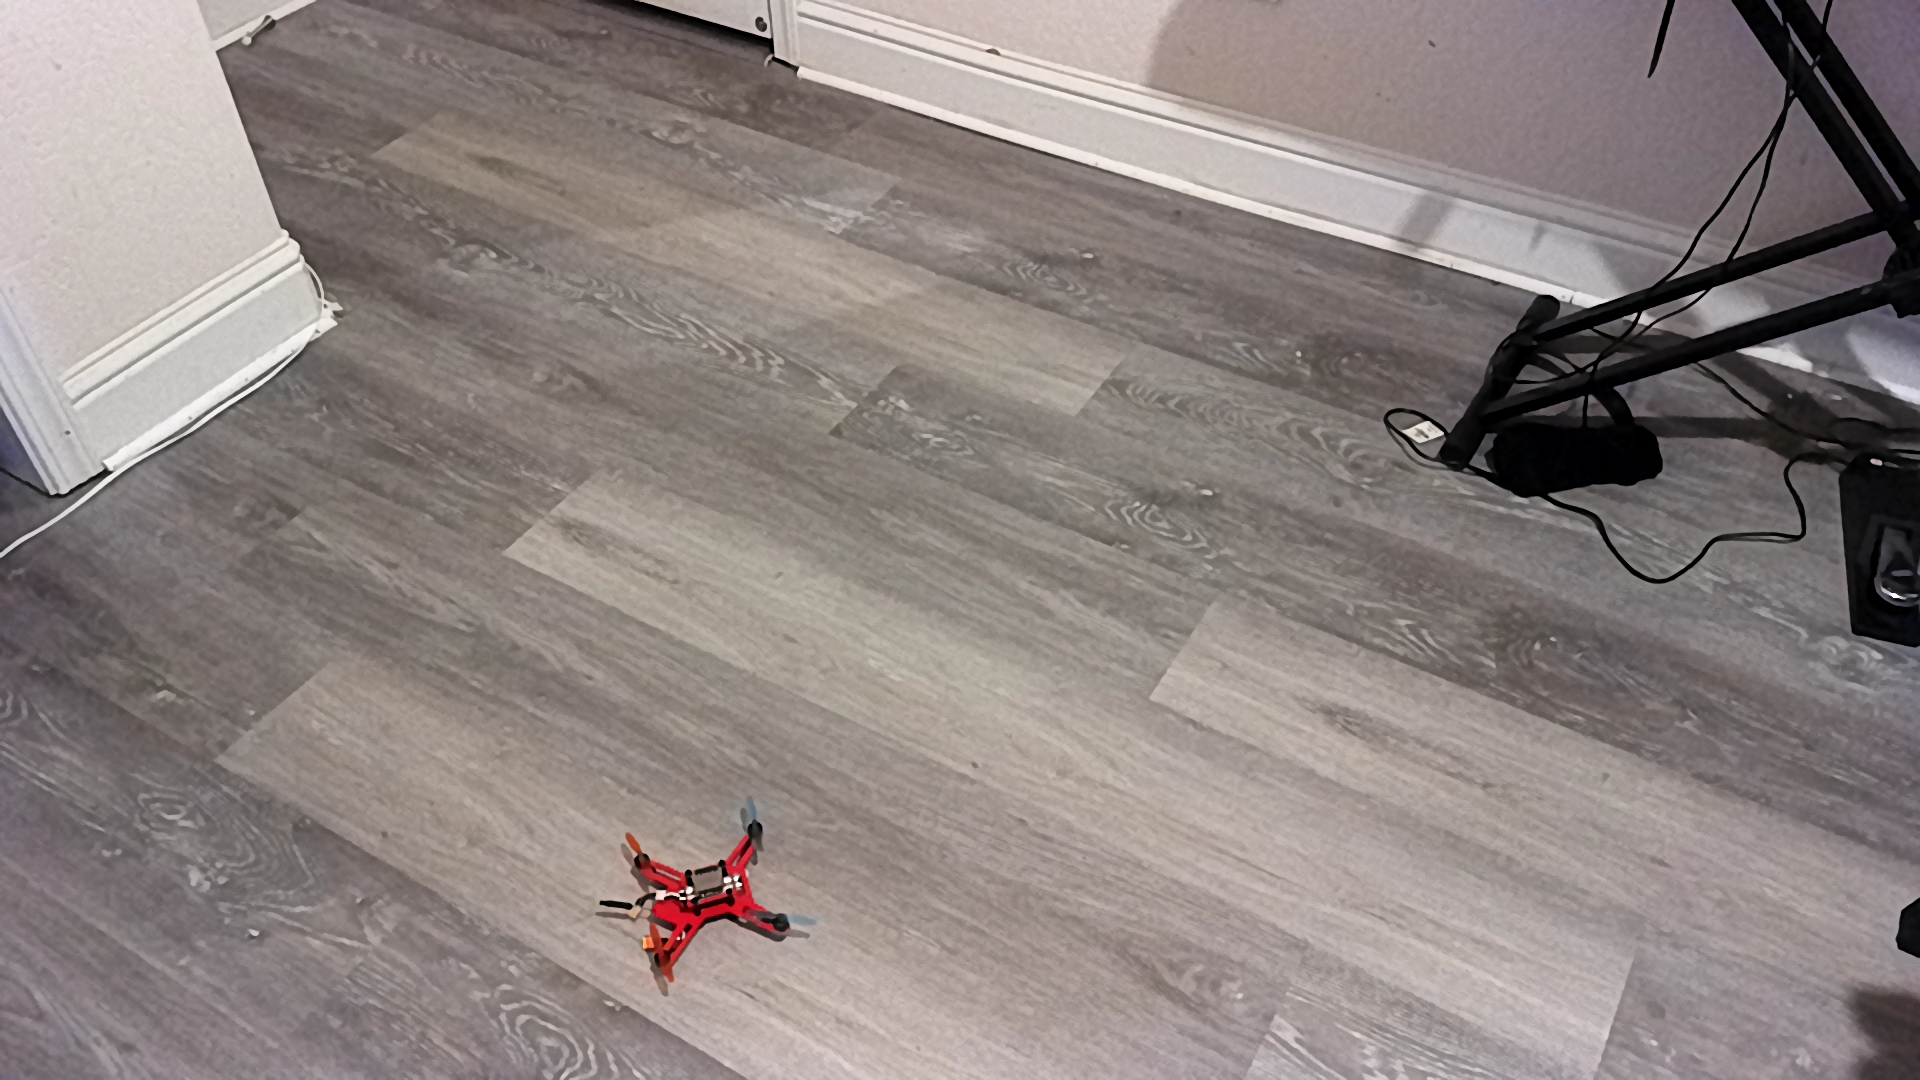drone: (589, 795, 852, 1001)
